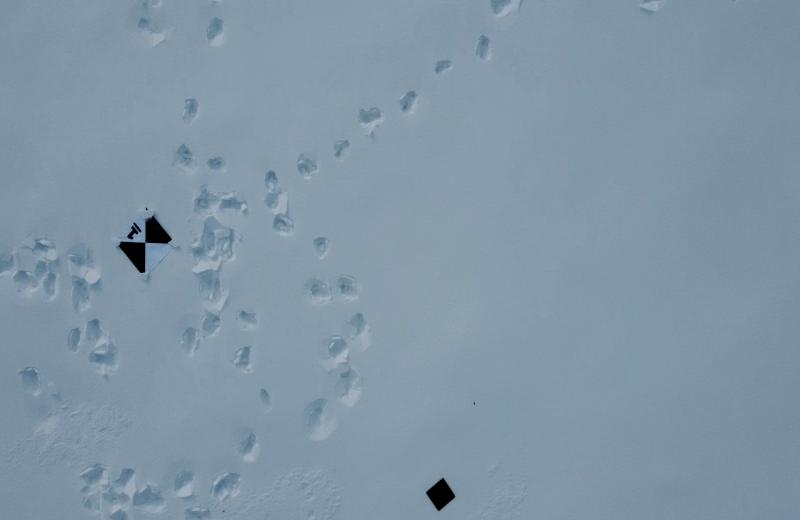Square: (424, 475, 457, 513)
